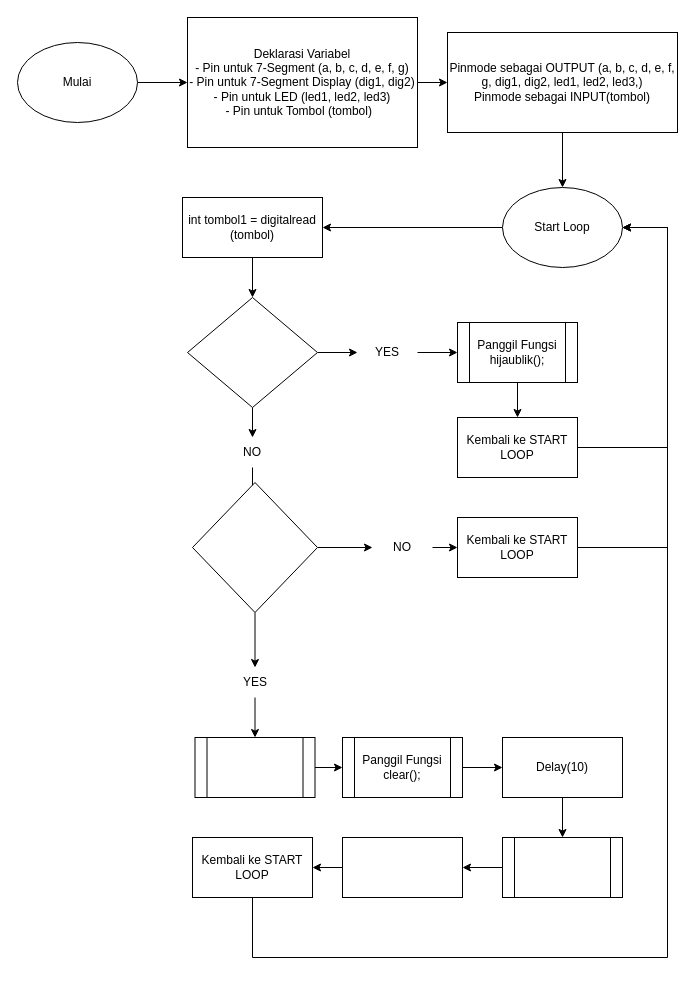
Image size: 695x983. Some labels were removed from this diagram. The shapes that lost their labels are listed below. From the top down, each one's box as (x1, y1, x2, y2) in pixels, then its label:
(186, 296, 318, 408): IF = tombol1 == low
(192, 482, 318, 612): IF tombol1 == HIGH
(194, 736, 315, 798): Pangil Fungsi kuningled();
(342, 836, 462, 898): Delay(100)
(502, 836, 622, 898): Panggil Fungsi merahled();
